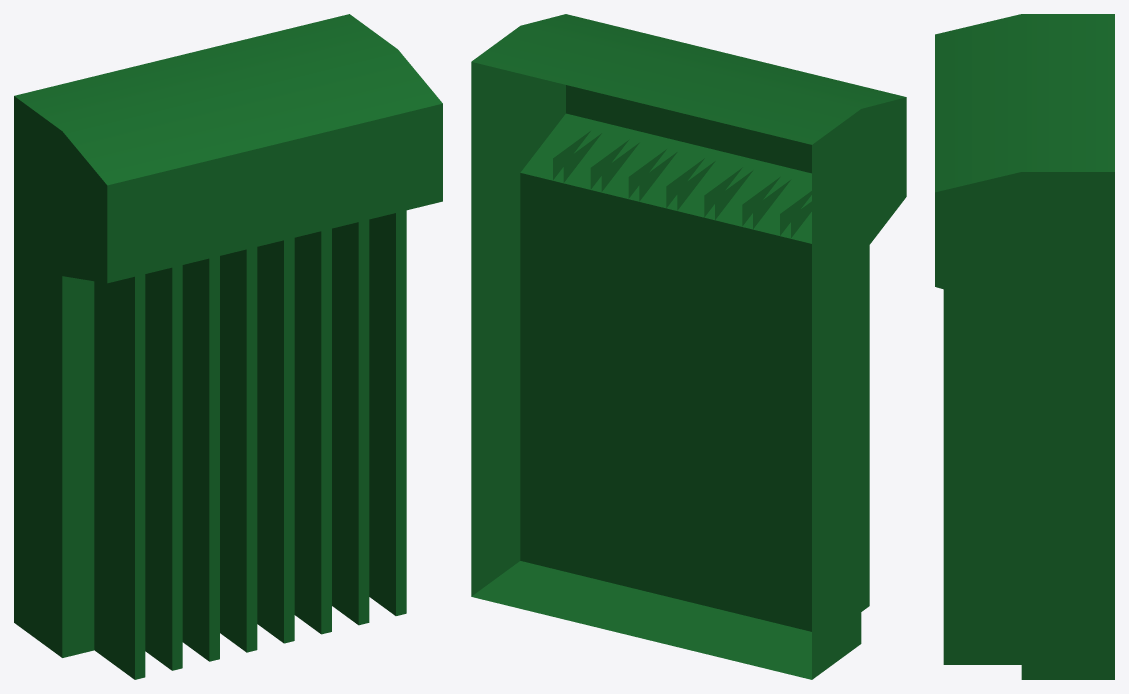
The model's file is BuildingPaneling01B.fbx.
The picture shows the model from 3 angles, left to right: view 1: azimuth 30°, elevation 25°; view 2: azimuth 150°, elevation 25°; view 3: azimuth 270°, elevation 25°; orthographic projection. The views are drawn at different scales.
Parts seen in each view (by area): view 1: BuildingPaneling01B; view 2: BuildingPaneling01B; view 3: BuildingPaneling01B.
Part boxes in pixels (bbox=[...]): BuildingPaneling01B: bbox=[14, 14, 442, 679]; BuildingPaneling01B: bbox=[471, 14, 906, 679]; BuildingPaneling01B: bbox=[935, 14, 1114, 679].
Bounding box in the file's own units: 200 × 300 × 96.32.
